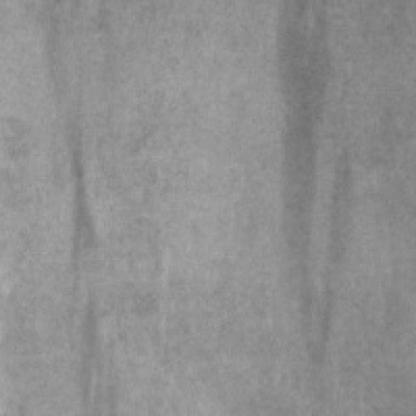inclusion: (277, 6, 337, 368), (65, 141, 108, 298)
